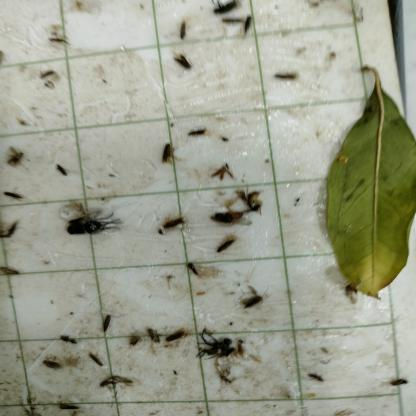prays_oleae: (204, 196, 250, 236), (197, 332, 237, 367), (0, 257, 29, 290), (208, 156, 236, 188), (7, 129, 29, 167), (141, 322, 164, 358), (159, 132, 183, 166), (0, 210, 21, 248), (100, 369, 129, 393), (245, 290, 266, 322), (215, 238, 243, 261), (60, 329, 84, 355), (308, 365, 327, 397), (127, 324, 144, 359), (86, 347, 105, 376), (161, 214, 186, 236), (42, 352, 64, 377), (165, 328, 189, 349), (175, 51, 196, 75), (212, 2, 242, 16), (178, 20, 192, 48), (186, 127, 207, 145), (102, 318, 119, 340), (240, 9, 254, 35), (4, 188, 26, 204), (54, 161, 68, 177)
